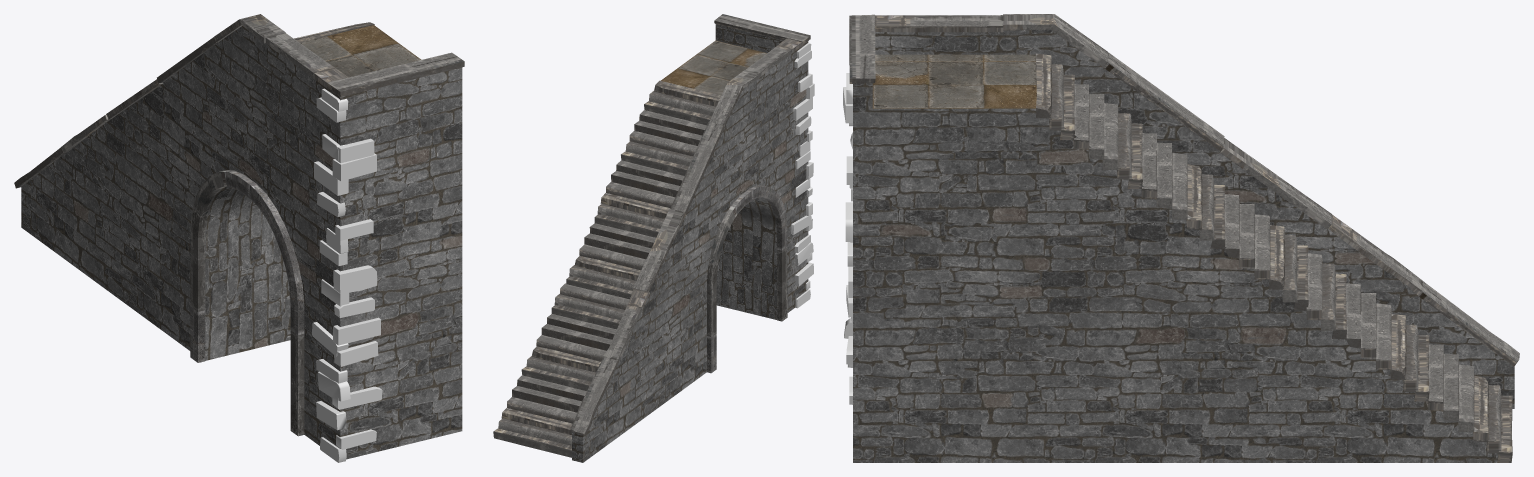
File: MC_Castle_Stairs_A_01.fbx
3 views of the same model, side by side, from view 1: azimuth 30°, elevation 25°; view 2: azimuth 150°, elevation 25°; view 3: azimuth 270°, elevation 25° (orthographic). The views are drawn at different scales.
Visible parts, largest first — view 1: MC_Castle_Stairs_A_01_LOD0; view 2: MC_Castle_Stairs_A_01_LOD0; view 3: MC_Castle_Stairs_A_01_LOD0.
Boxes of the visible parts, x1=… form: MC_Castle_Stairs_A_01_LOD0: x1=14, y1=14, x2=464, y2=462; MC_Castle_Stairs_A_01_LOD0: x1=493, y1=14, x2=814, y2=462; MC_Castle_Stairs_A_01_LOD0: x1=843, y1=14, x2=1519, y2=462.
Size of what is drawn, in the model's own units: 291 by 771 by 1224.
